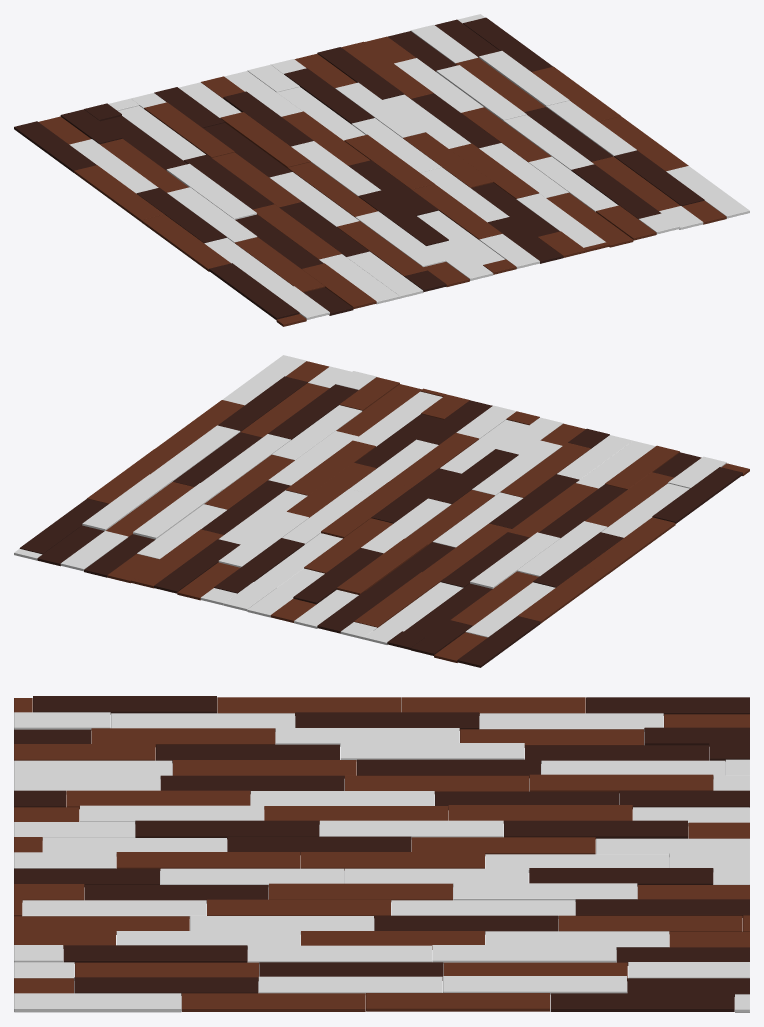
File: parquet (1).fbx
3 views of the same model, one above another, from view 1: azimuth 30°, elevation 25°; view 2: azimuth 150°, elevation 25°; view 3: azimuth 270°, elevation 25° (orthographic). The views are drawn at different scales.
Visible parts, largest first — view 1: Plancher; view 2: Plancher; view 3: Plancher.
Part boxes in pixels (x1,y1,x2,y2): Plancher: (14,14,749,326); Plancher: (14,355,749,667); Plancher: (14,696,749,1012).
Size of the model in its own units: 400 by 3.59 by 400.
